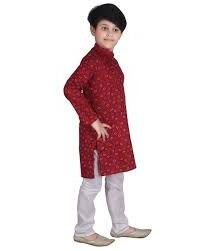Human: (60, 5, 158, 246)
